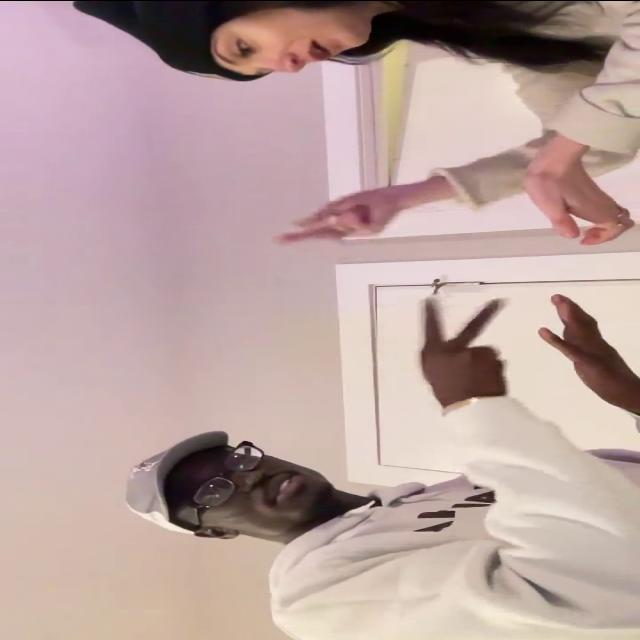Scissors: (418, 295, 506, 401), (278, 191, 406, 243)
